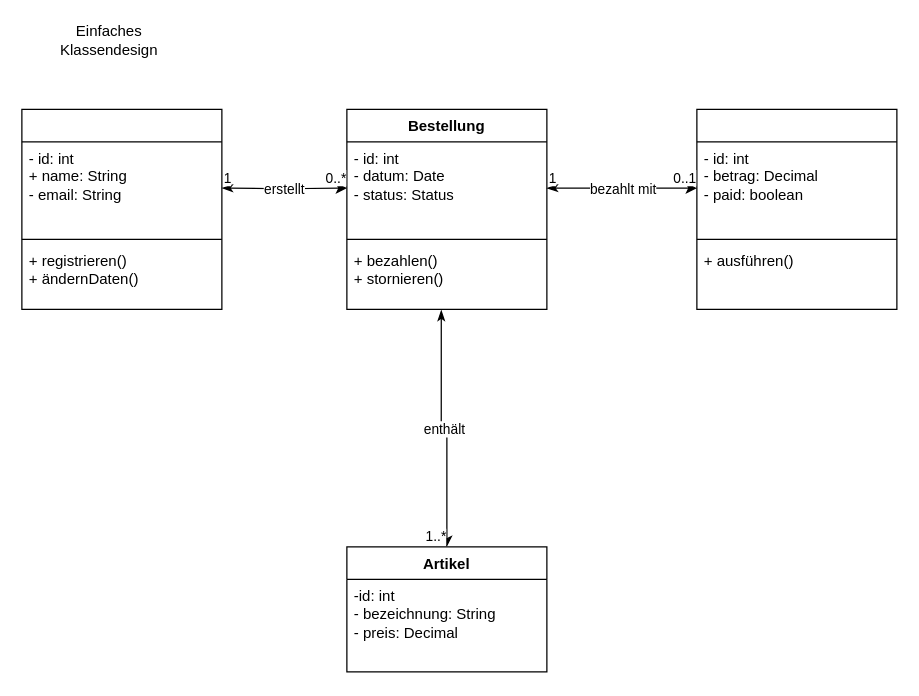
Some shapes in this 919 by 696 pixel diagram are drawn without their labels. The shapes that lost their labels are listed below. From the top down, each one's box as (x1, y1, x2, y2) in pixels, then its label:
(21, 108, 222, 309): Kunde
(696, 108, 897, 309): Zahlung
